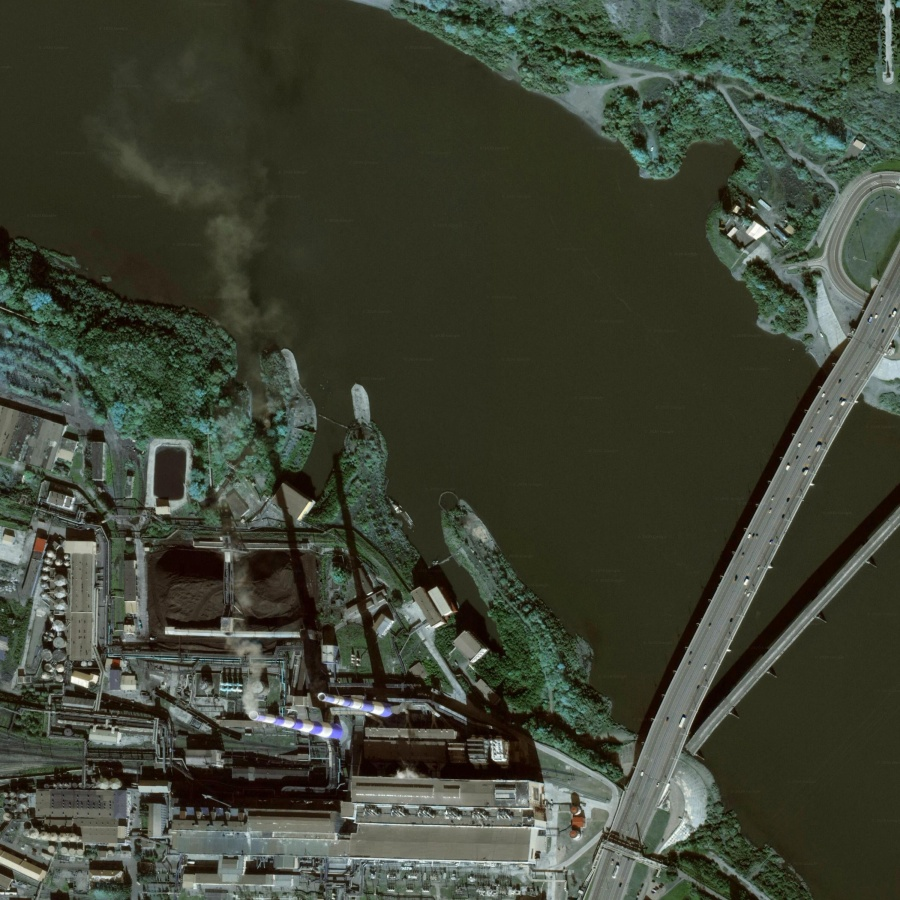PowerPlant: (127, 513, 531, 857)
